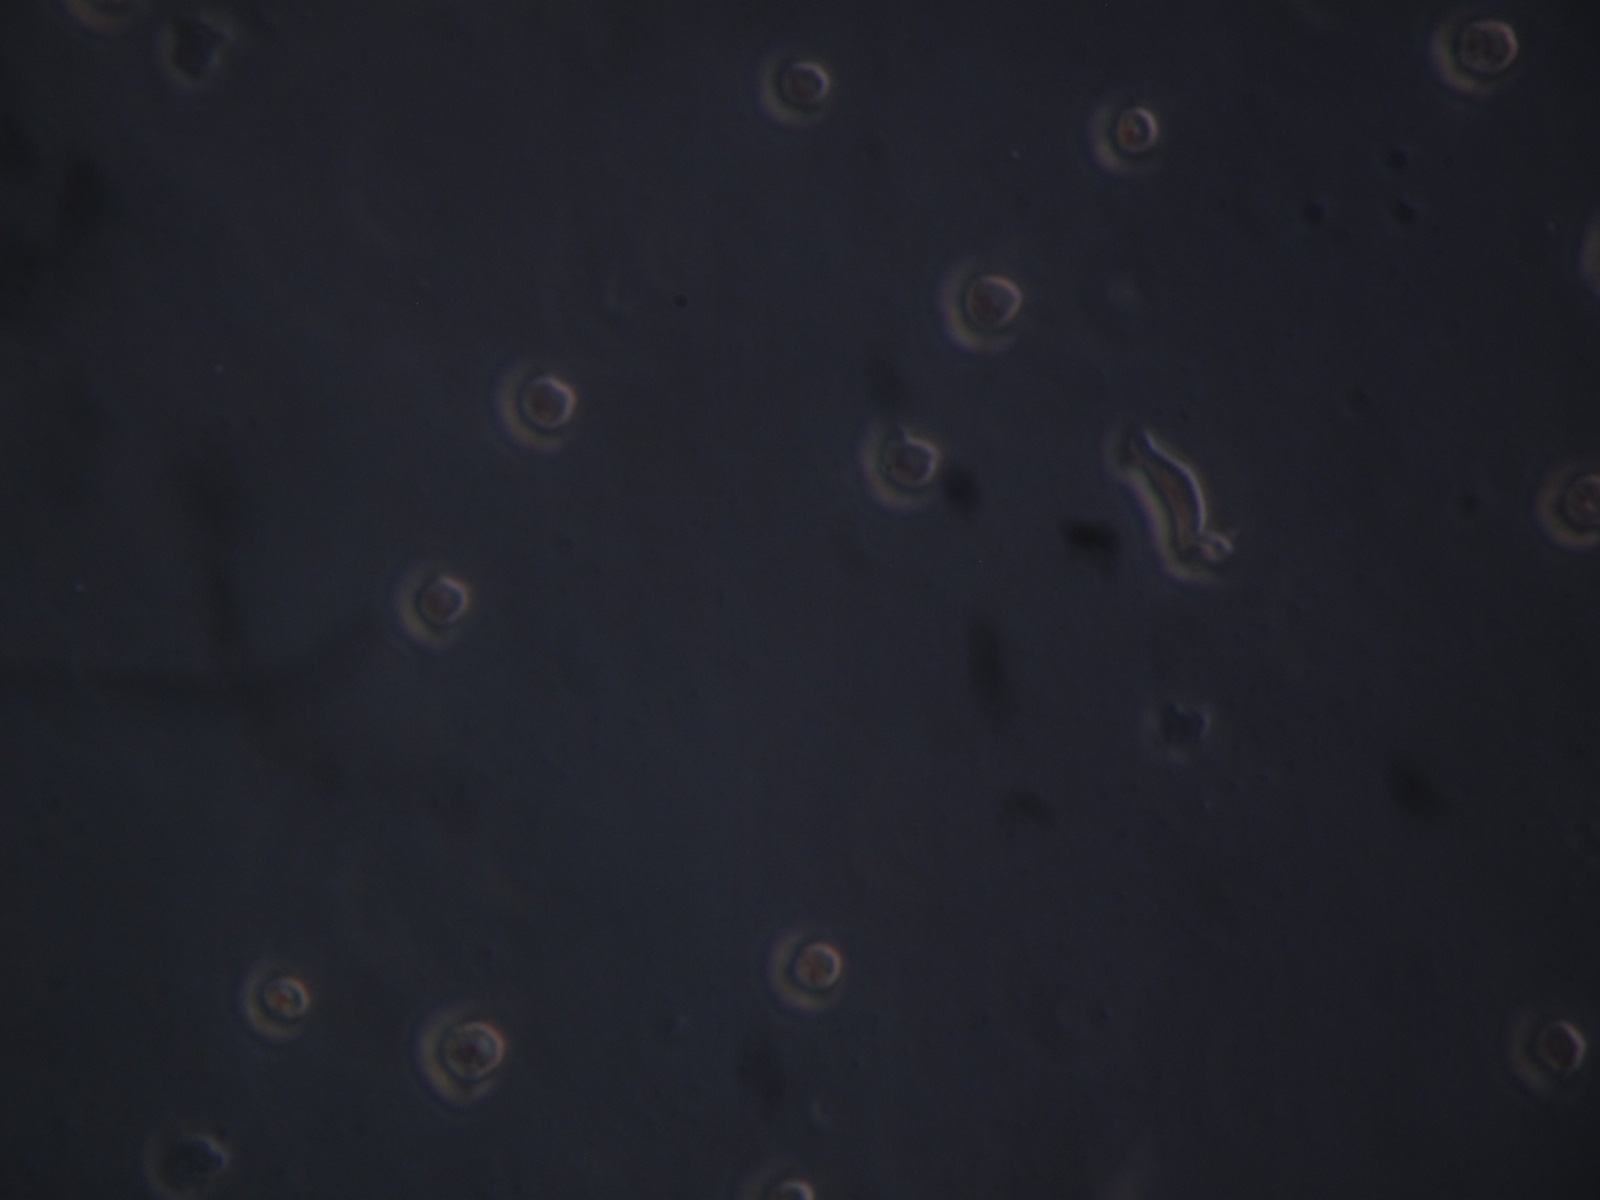hemo: (414, 1002, 506, 1105), (1509, 995, 1590, 1098), (944, 260, 1026, 352), (493, 361, 574, 451), (769, 921, 845, 1016), (1430, 14, 1519, 95), (1534, 455, 1600, 557), (860, 429, 939, 512), (244, 955, 314, 1045), (397, 566, 471, 648), (758, 48, 830, 131), (1090, 97, 1159, 174)
